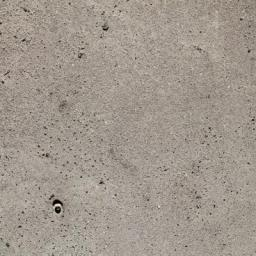FOD: (51, 198, 69, 217)
